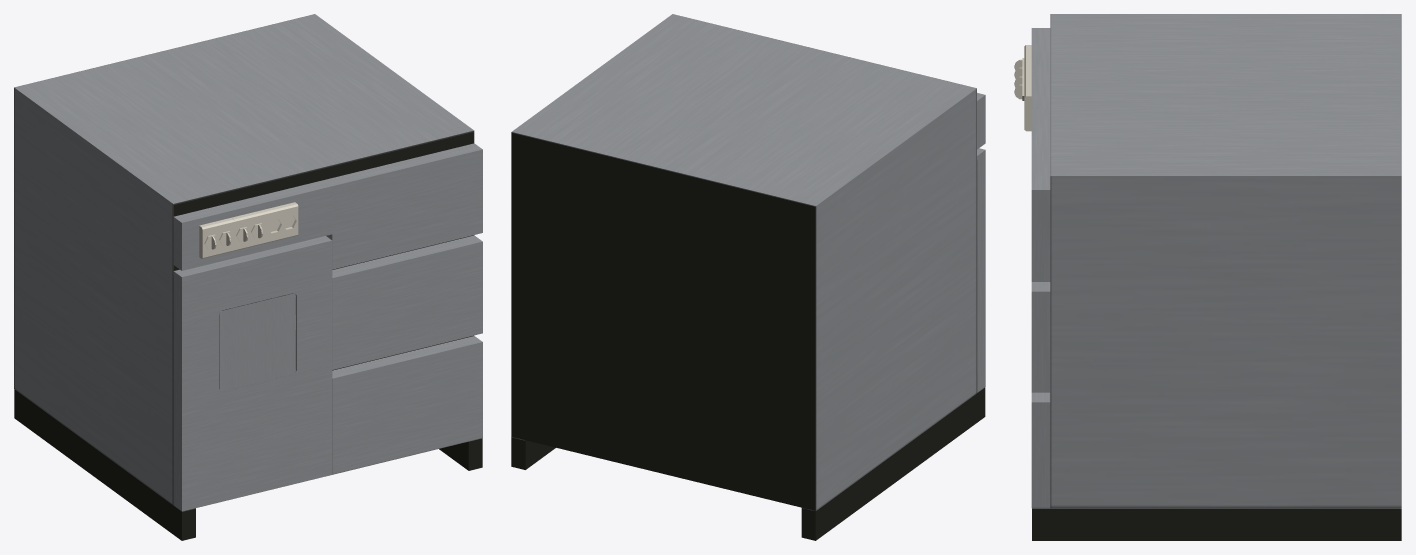
File: LC_3085_Chiffonier_LOD2.fbx
3 renders of one model, left to right at view 1: azimuth 30°, elevation 25°; view 2: azimuth 150°, elevation 25°; view 3: azimuth 270°, elevation 25°, orthographic. The views are drawn at different scales.
Parts seen in each view (by area): view 1: LC_3085_Ch_LOD2; view 2: LC_3085_Ch_LOD2; view 3: LC_3085_Ch_LOD2.
Part boxes in pixels (box(x1,y1,x2,y2)): LC_3085_Ch_LOD2: box(14, 14, 482, 540); LC_3085_Ch_LOD2: box(511, 14, 985, 540); LC_3085_Ch_LOD2: box(1014, 14, 1401, 540).
Size of the model in its own units: 82.91 by 87.08 by 83.82.
1 material, 1 textured.
